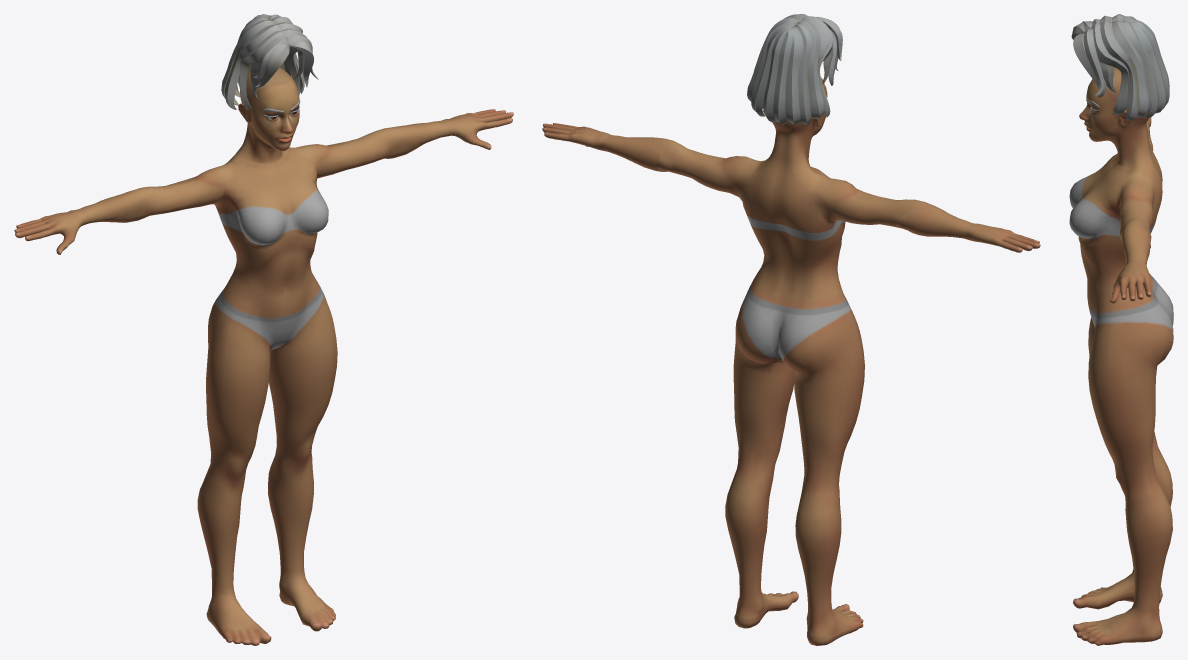
Rendered from character-female-a.glb.
The picture shows the model from 3 angles, left to right: view 1: azimuth 30°, elevation 25°; view 2: azimuth 150°, elevation 25°; view 3: azimuth 270°, elevation 25°; orthographic projection.
Parts seen in each view (by area): view 1: crowd-body; view 2: crowd-body; view 3: crowd-body.
Part boxes in pixels (box(x1,y1,x2,y2)): crowd-body: box(14, 14, 513, 645); crowd-body: box(542, 14, 1040, 645); crowd-body: box(1069, 14, 1173, 645).
Bounding box in the file's own units: 1.58 × 1.84 × 0.2865.
Materials: 4 (4 with a texture image).
